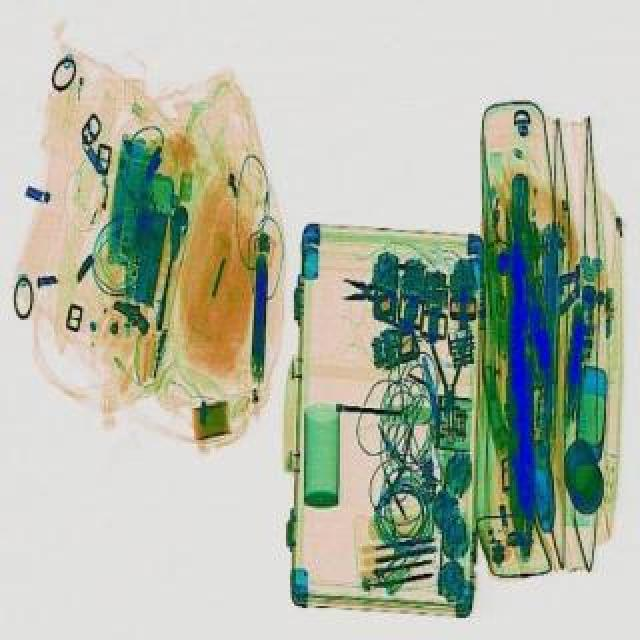wrench: (428, 328, 470, 418), (340, 260, 404, 316)
